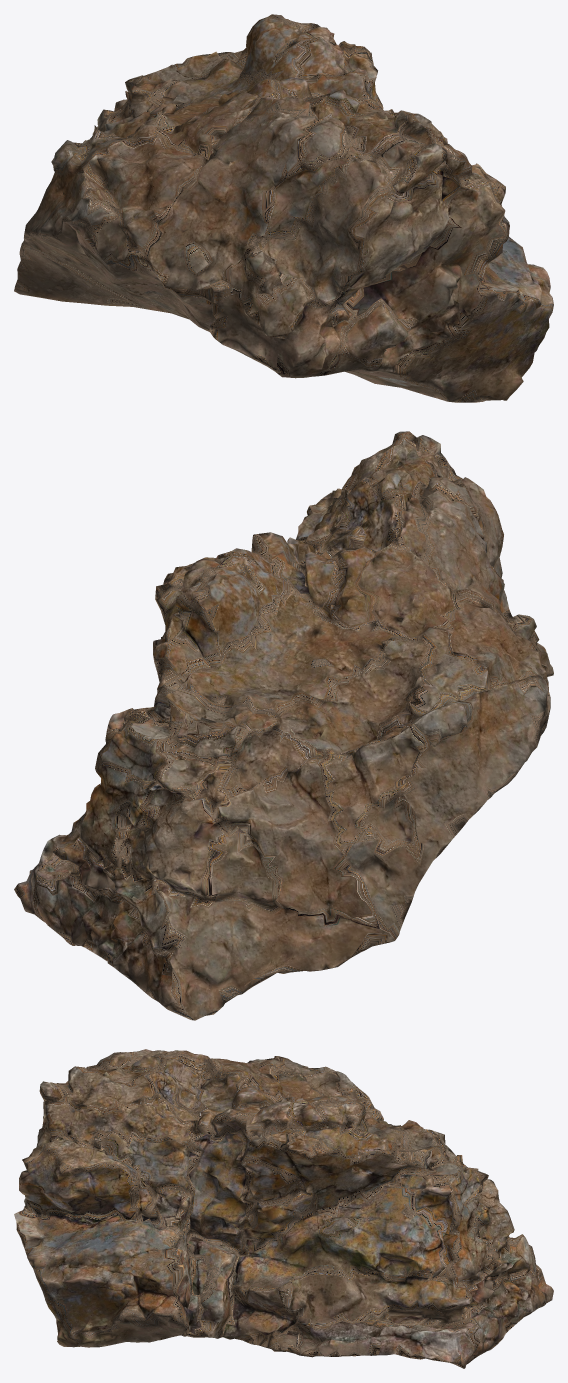
File: boulder_01.glb
3 views of the same model, one above another, from view 1: azimuth 30°, elevation 25°; view 2: azimuth 150°, elevation 25°; view 3: azimuth 270°, elevation 25° (orthographic). The views are drawn at different scales.
Parts seen in each view (by area): view 1: boulder_01; view 2: boulder_01; view 3: boulder_01.
Part boxes in pixels (x1,y1,x2,y2): boulder_01: (14,14,553,402); boulder_01: (14,431,553,1020); boulder_01: (14,1049,553,1368).
Size of the model in its own units: 1.27 by 1 by 1.83.
1 material, 1 textured.
